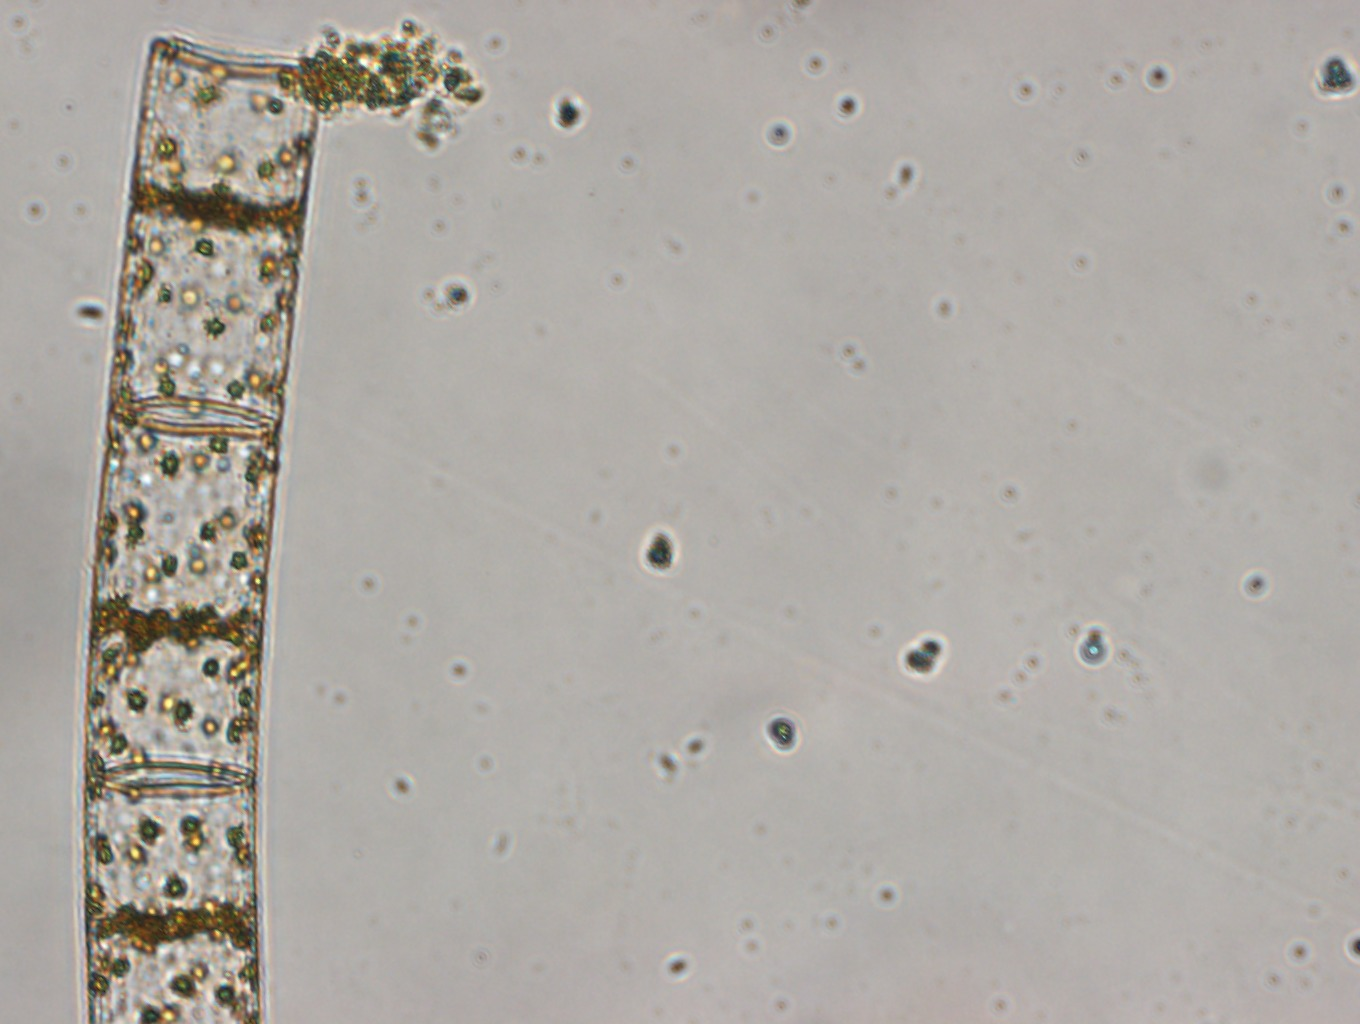guinardia flaccida: (78, 33, 318, 1024)
